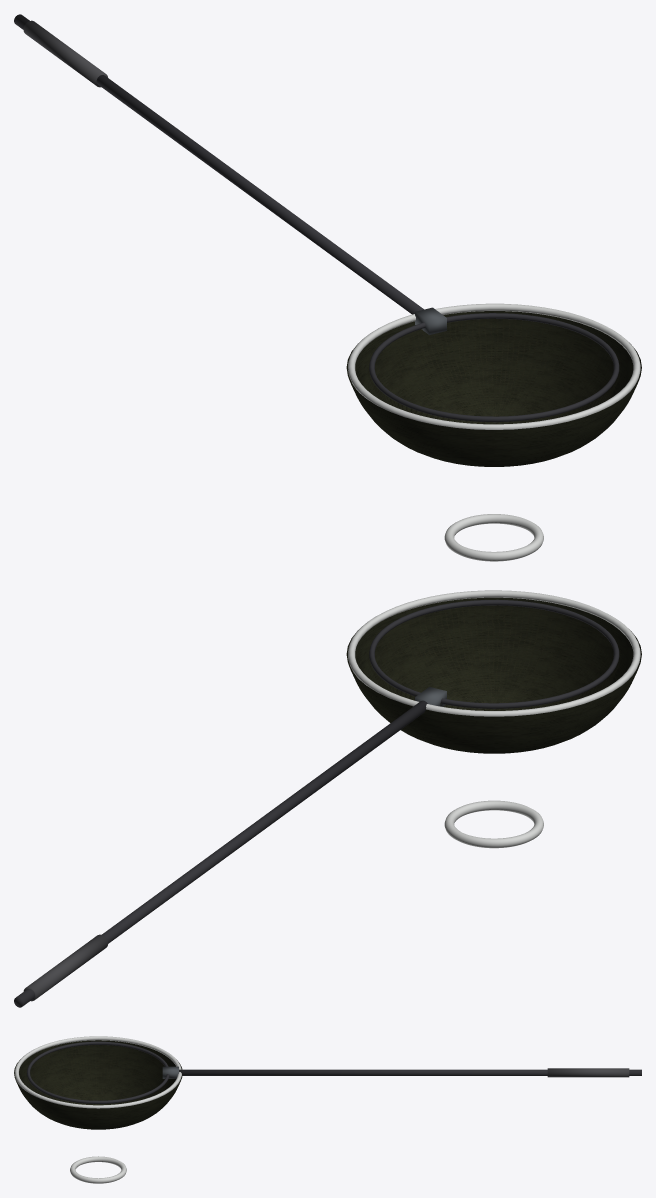
The model's file is nets.glb.
3 views of the same model, one above another, from view 1: azimuth 30°, elevation 25°; view 2: azimuth 150°, elevation 25°; view 3: azimuth 270°, elevation 25° (orthographic). The views are drawn at different scales.
Parts seen in each view (by area): view 1: dropnet_bag, landingnet_bag, landingnet_handle, dropnet_hoop, landingnet_frame, dropnet_weight, landingnet_grip; view 2: dropnet_bag, landingnet_bag, landingnet_handle, dropnet_hoop, landingnet_frame, dropnet_weight, landingnet_grip; view 3: dropnet_bag, landingnet_bag, landingnet_handle, dropnet_hoop, landingnet_frame, landingnet_grip, dropnet_weight.
Boxes of the visible parts, x1,y1,x2,y2 form: dropnet_bag: [346, 311, 641, 466]; landingnet_bag: [367, 319, 620, 424]; landingnet_handle: [14, 14, 423, 314]; dropnet_hoop: [348, 303, 640, 429]; landingnet_frame: [369, 313, 619, 422]; dropnet_weight: [444, 514, 543, 561]; landingnet_grip: [23, 20, 107, 87]; dropnet_bag: [346, 597, 641, 753]; landingnet_bag: [367, 605, 621, 710]; landingnet_handle: [14, 700, 427, 1007]; dropnet_hoop: [348, 590, 640, 716]; landingnet_frame: [369, 599, 619, 708]; dropnet_weight: [444, 800, 543, 848]; landingnet_grip: [23, 934, 108, 1001]; dropnet_bag: [14, 1040, 182, 1129]; landingnet_bag: [26, 1045, 169, 1105]; landingnet_handle: [179, 1069, 641, 1075]; dropnet_hoop: [14, 1036, 181, 1108]; landingnet_frame: [27, 1041, 169, 1103]; landingnet_grip: [547, 1068, 629, 1077]; dropnet_weight: [70, 1156, 126, 1183].
Size of the model in its own units: 0.724 by 0.4904 by 2.69.
Materials: 6 (2 with a texture image).
